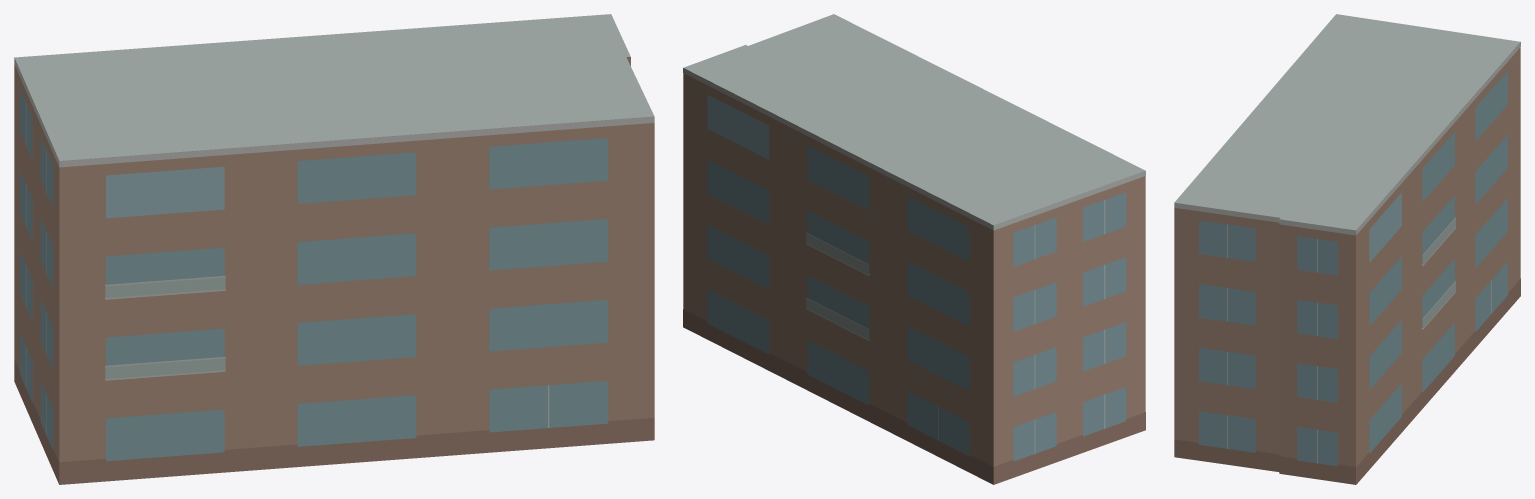
The model's file is survey-upis-32705885.glb.
3 views of the same model, side by side, from view 1: azimuth 30°, elevation 25°; view 2: azimuth 150°, elevation 25°; view 3: azimuth 270°, elevation 25° (orthographic). The views are drawn at different scales.
Parts seen in each view (by area): view 1: survey-upis-32705885.tmp; view 2: survey-upis-32705885.tmp; view 3: survey-upis-32705885.tmp.
Part boxes in pixels (<box>): survey-upis-32705885.tmp: <box>14,14,654,484</box>; survey-upis-32705885.tmp: <box>683,14,1145,484</box>; survey-upis-32705885.tmp: <box>1174,14,1520,484</box>.
Bounding box in the file's own units: 22.45 × 12.3 × 15.19.
